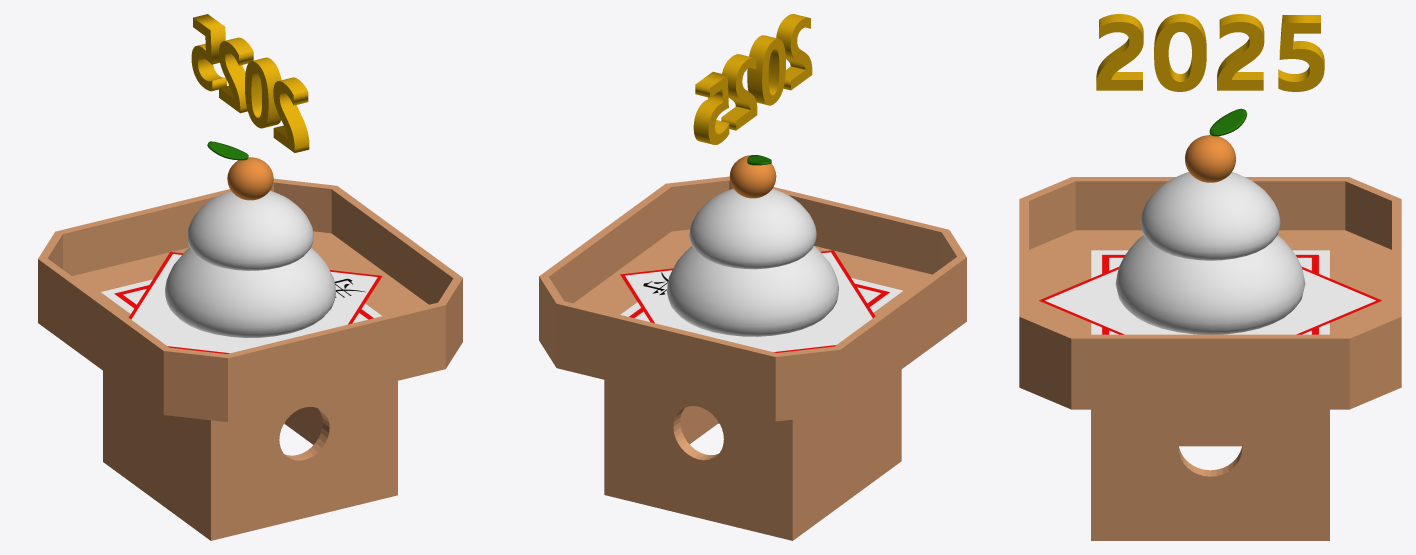
The picture shows the model from 3 angles, left to right: view 1: azimuth 30°, elevation 25°; view 2: azimuth 150°, elevation 25°; view 3: azimuth 270°, elevation 25°; orthographic projection. The views are drawn at different scales.
Visible parts, largest first — view 1: Cube, 球, 球.001, テキスト, 平面.001, 球.002; view 2: Cube, 球, 球.001, テキスト, 平面.001, 球.002; view 3: Cube, 球, テキスト, 球.001, 平面.001, 球.002, 平面.
Part boxes in pixels (x1,y1,x2,y2): Cube: [38, 178, 462, 540]; 球: [165, 248, 335, 337]; 球.001: [187, 190, 313, 270]; テキスト: [191, 14, 309, 152]; 平面.001: [101, 252, 382, 353]; 球.002: [227, 157, 273, 200]; Cube: [539, 176, 966, 540]; 球: [667, 246, 838, 336]; 球.001: [689, 188, 816, 269]; テキスト: [693, 14, 812, 144]; 平面.001: [620, 250, 903, 352]; 球.002: [729, 155, 776, 198]; Cube: [1019, 177, 1401, 540]; 球: [1115, 235, 1305, 334]; テキスト: [1096, 14, 1324, 91]; 球.001: [1140, 172, 1280, 260]; 平面.001: [1039, 250, 1381, 334]; 球.002: [1185, 135, 1235, 182]; 平面: [1209, 108, 1246, 136].
Size of the model in its own units: 2 by 2.73 by 2.
6 materials, 1 textured.
